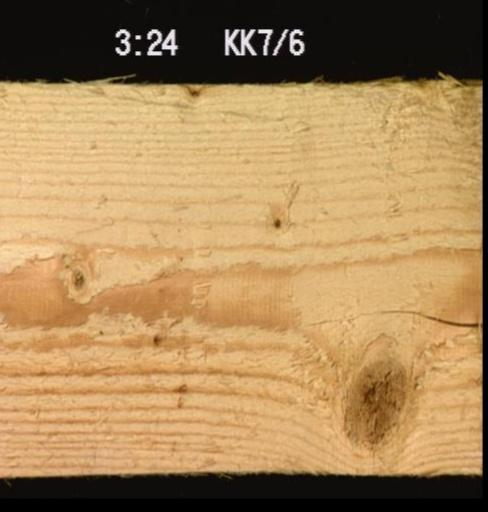small_knot: (63, 259, 90, 295), (181, 82, 205, 98), (269, 213, 282, 229)
sound_knot: (339, 353, 408, 447)
split: (380, 305, 481, 326)
